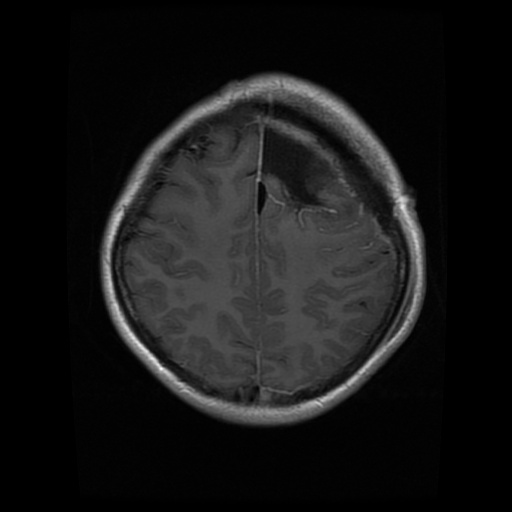glioma: (261, 124, 346, 211)
